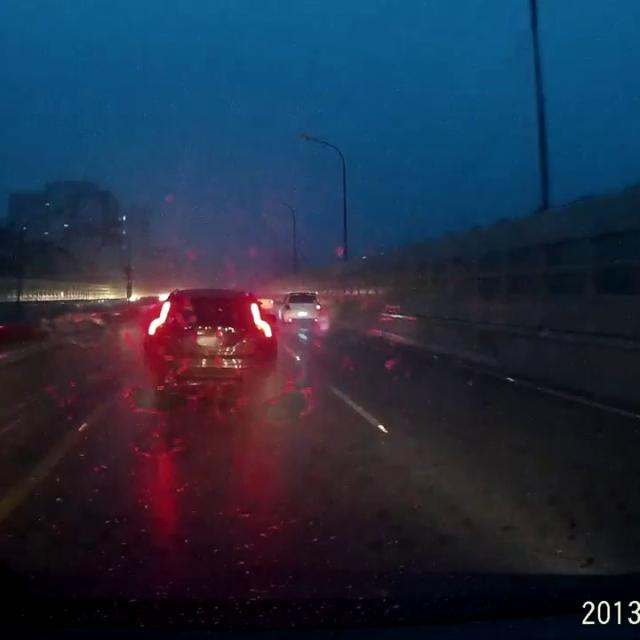Car: (139, 282, 280, 401), (279, 287, 320, 325)
